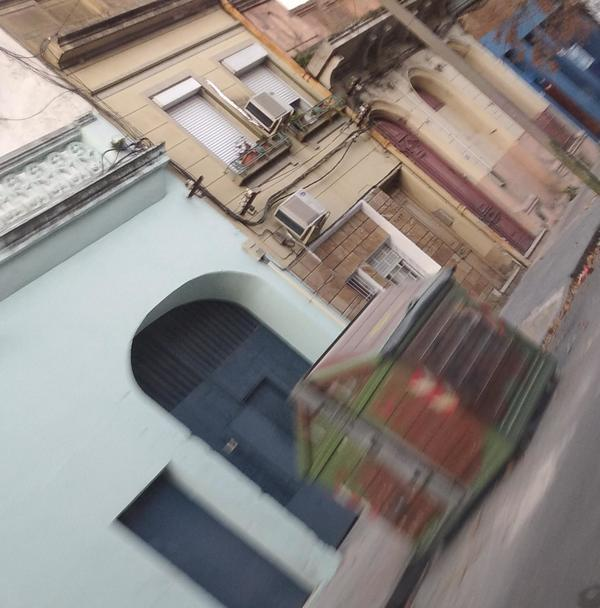Trash: (291, 272, 556, 540)
